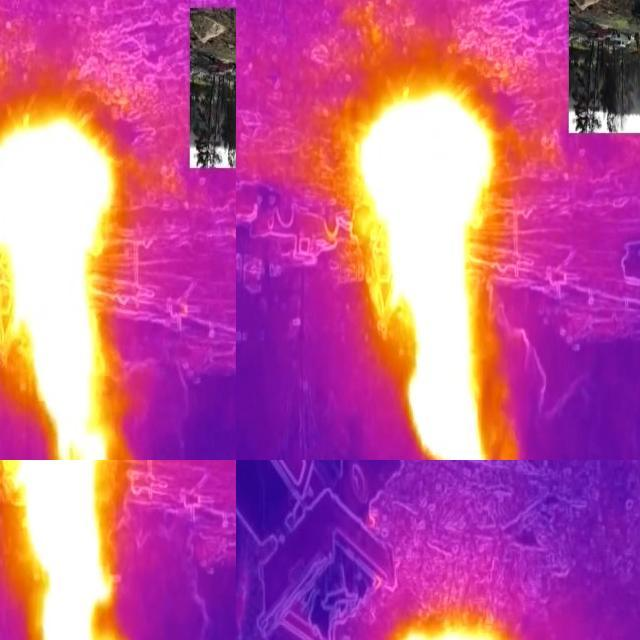fire: (354, 88, 495, 461), (1, 110, 115, 461), (1, 461, 129, 640), (389, 596, 538, 640)
